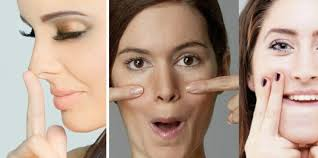n.sharp: (153, 63, 182, 103)
